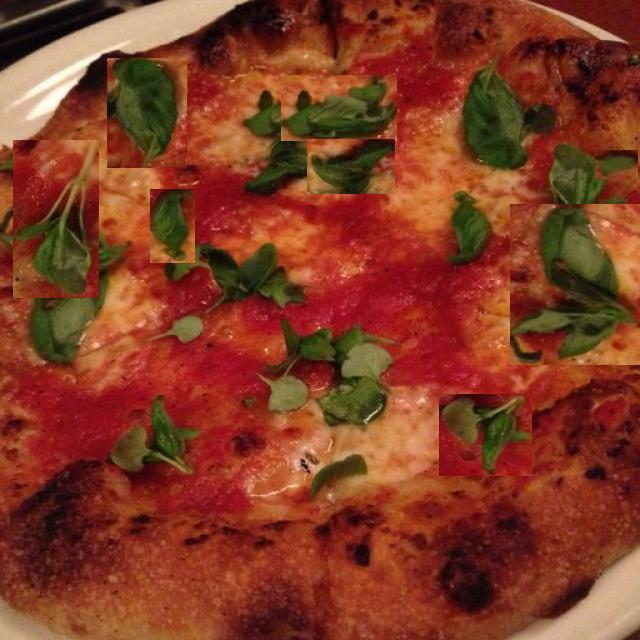basil: (510, 204, 640, 365), (332, 239, 488, 342), (252, 314, 389, 429), (13, 140, 99, 298), (107, 58, 187, 168), (281, 75, 397, 141), (439, 394, 532, 476), (307, 140, 395, 196), (270, 450, 338, 502), (150, 189, 195, 263), (595, 150, 638, 179)
pizza: (0, 0, 640, 640)
